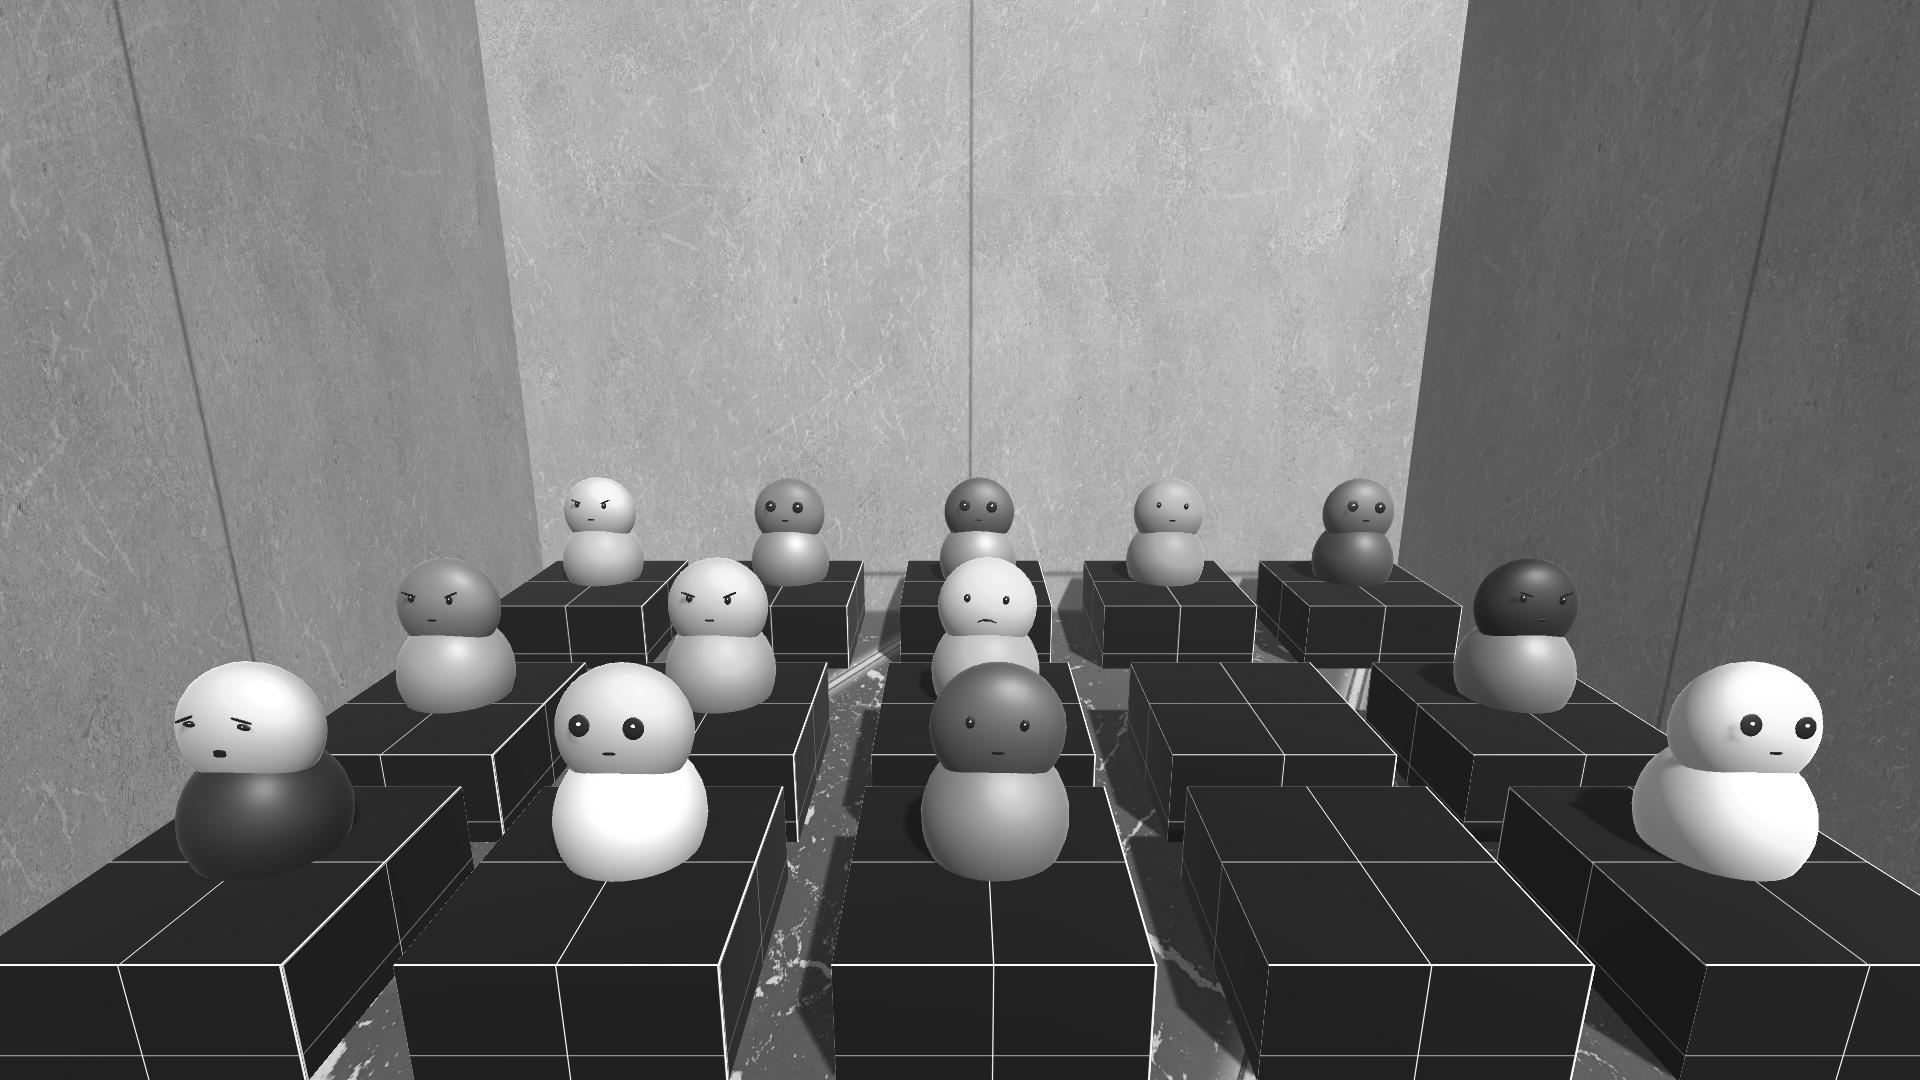blob_atento: (1631, 659, 1830, 887), (541, 657, 713, 899), (1309, 473, 1400, 600), (746, 469, 833, 593), (945, 467, 1021, 574)
blob_entediado: (167, 663, 361, 890)
blob_normal: (919, 661, 1060, 895), (1121, 480, 1209, 597)
blob_raiva: (1449, 550, 1582, 724), (390, 556, 520, 731), (661, 560, 781, 721), (560, 463, 634, 599)
blob_triste: (931, 559, 1040, 702)
